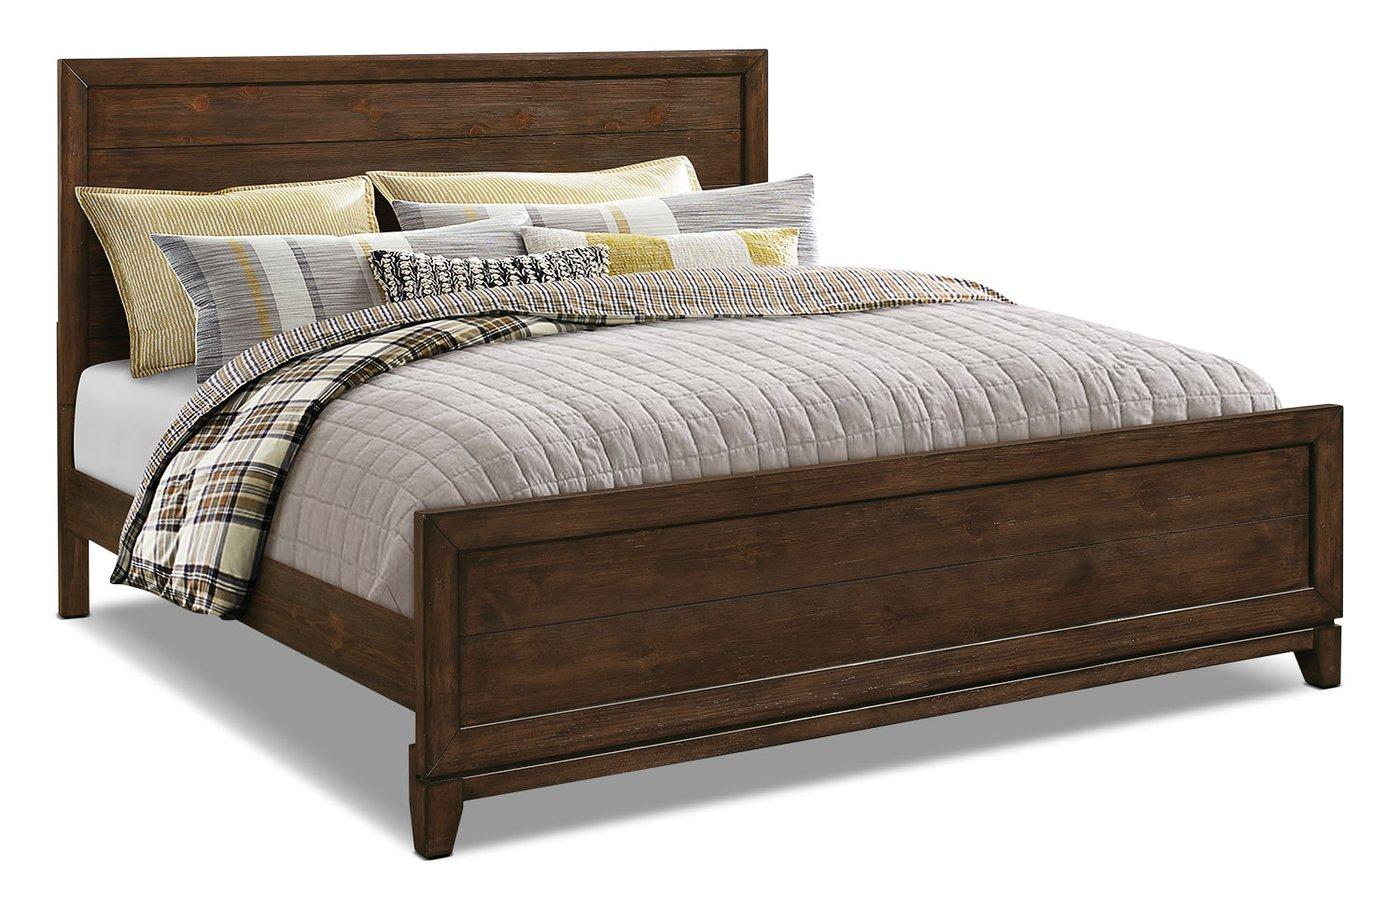bed: (12, 38, 1378, 788)
